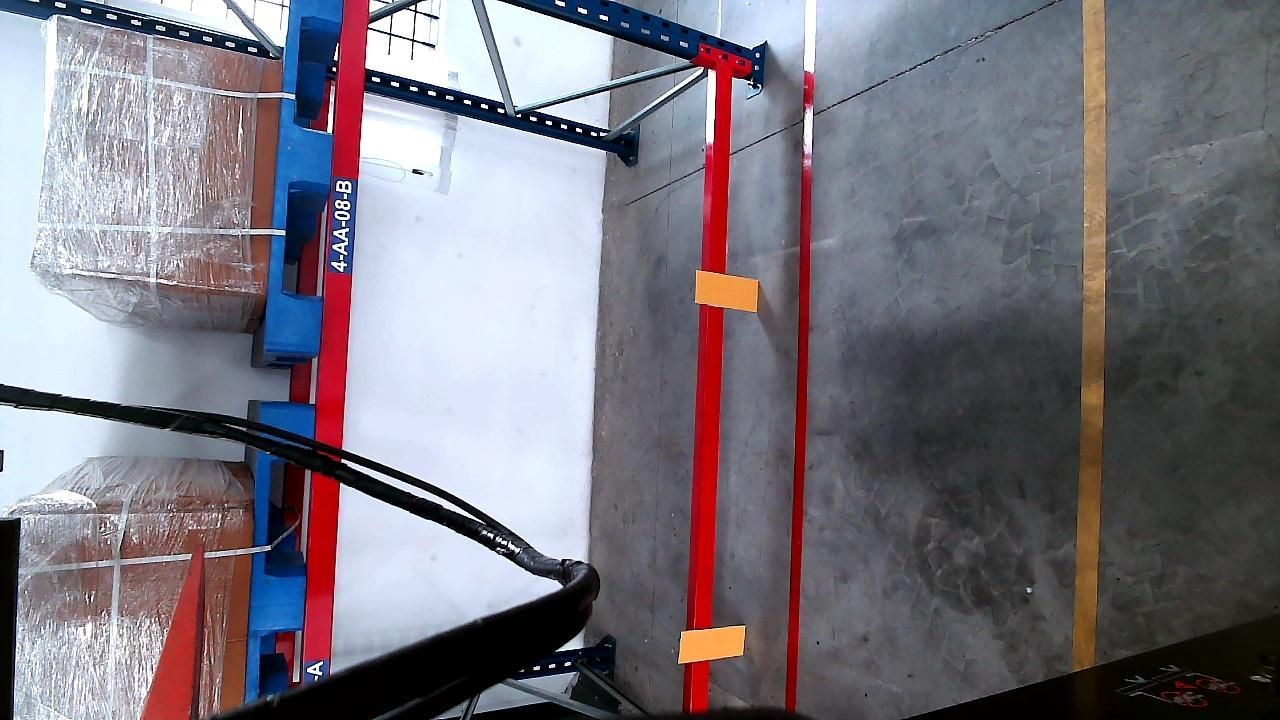red_line: (781, 1, 815, 710)
yellow_line: (1078, 1, 1103, 671)
